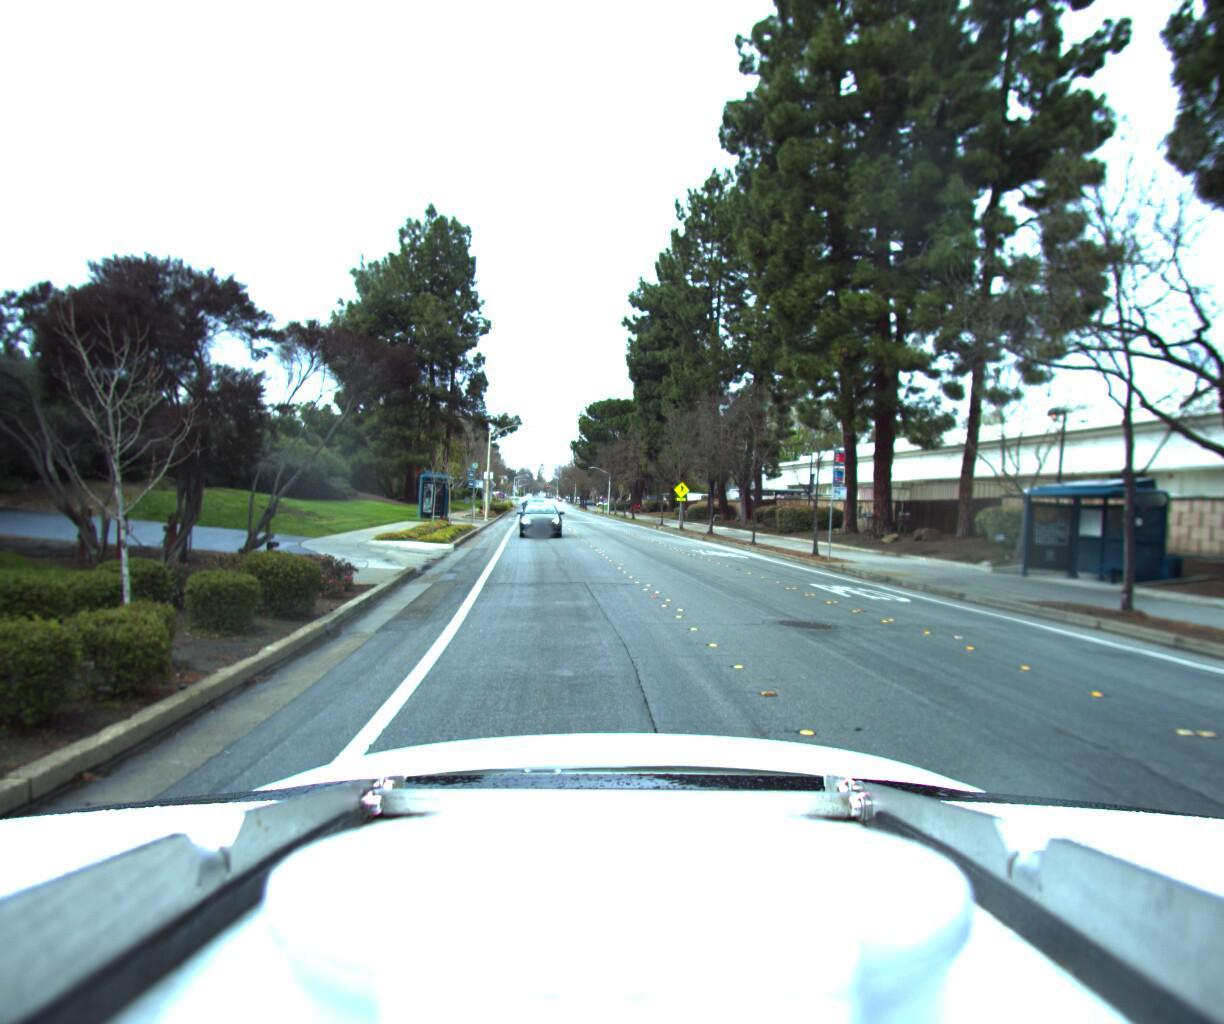car: (515, 494, 563, 537)
